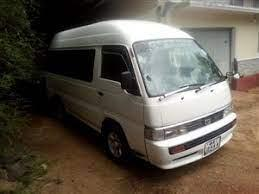van: (50, 19, 236, 163)
